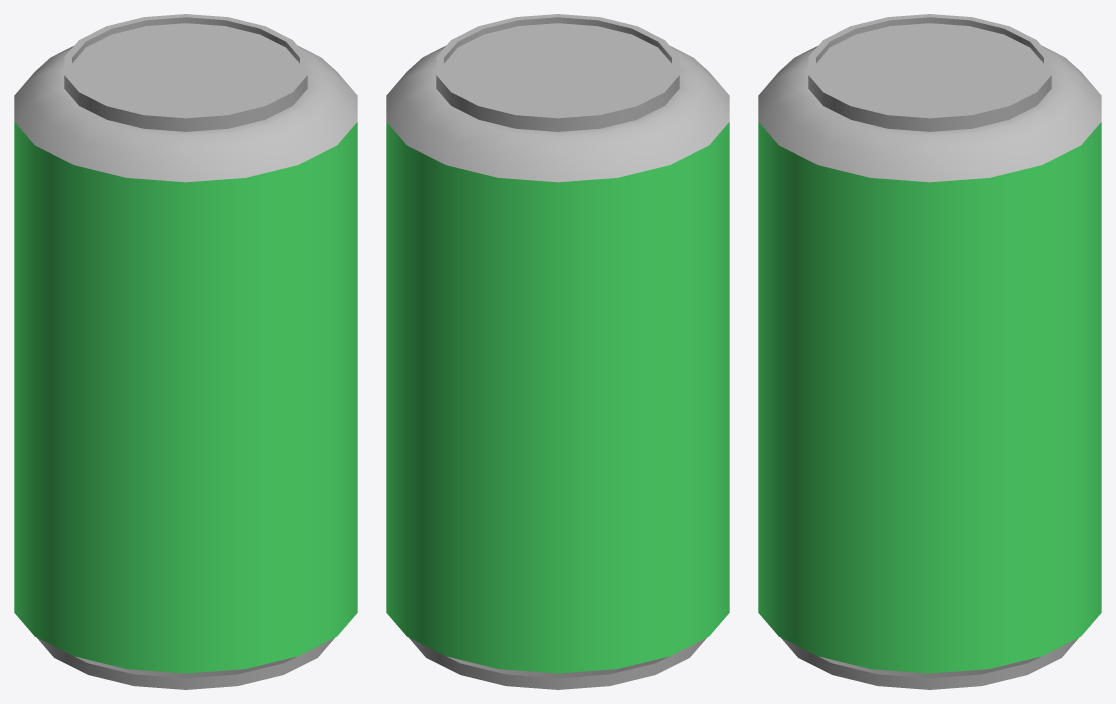
File: Unwrapped_can3.fbx
The picture shows the model from 3 angles, left to right: view 1: azimuth 30°, elevation 25°; view 2: azimuth 150°, elevation 25°; view 3: azimuth 270°, elevation 25°; orthographic projection.
Parts seen in each view (by area): view 1: Cylinder003; view 2: Cylinder003; view 3: Cylinder003.
Part boxes in pixels (x1=…): Cylinder003: x1=14, y1=14, x2=357, y2=689; Cylinder003: x1=386, y1=14, x2=729, y2=689; Cylinder003: x1=758, y1=14, x2=1101, y2=689.
Size of the model in its own units: 18.47 by 32.68 by 18.19.
